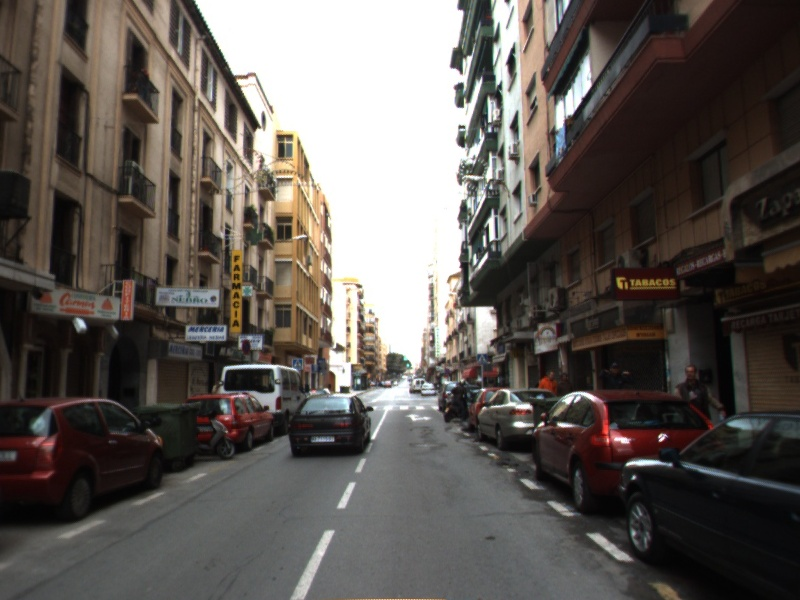STRAIGHT_RIGHT: (403, 412, 434, 423)
